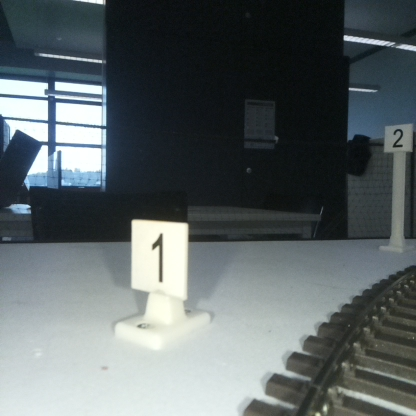white-info-2: (384, 122, 412, 250)
white-stop-1: (130, 222, 187, 339)
